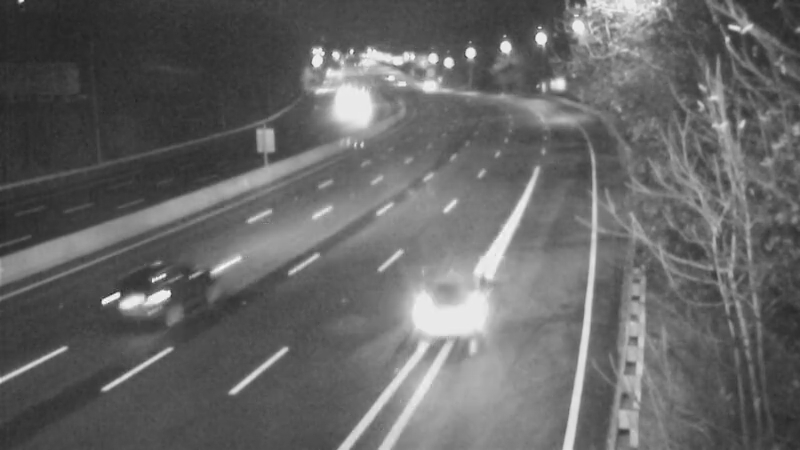vehicle: (405, 247, 515, 357), (98, 257, 178, 337), (373, 58, 423, 108), (402, 60, 452, 110), (326, 82, 376, 132)
